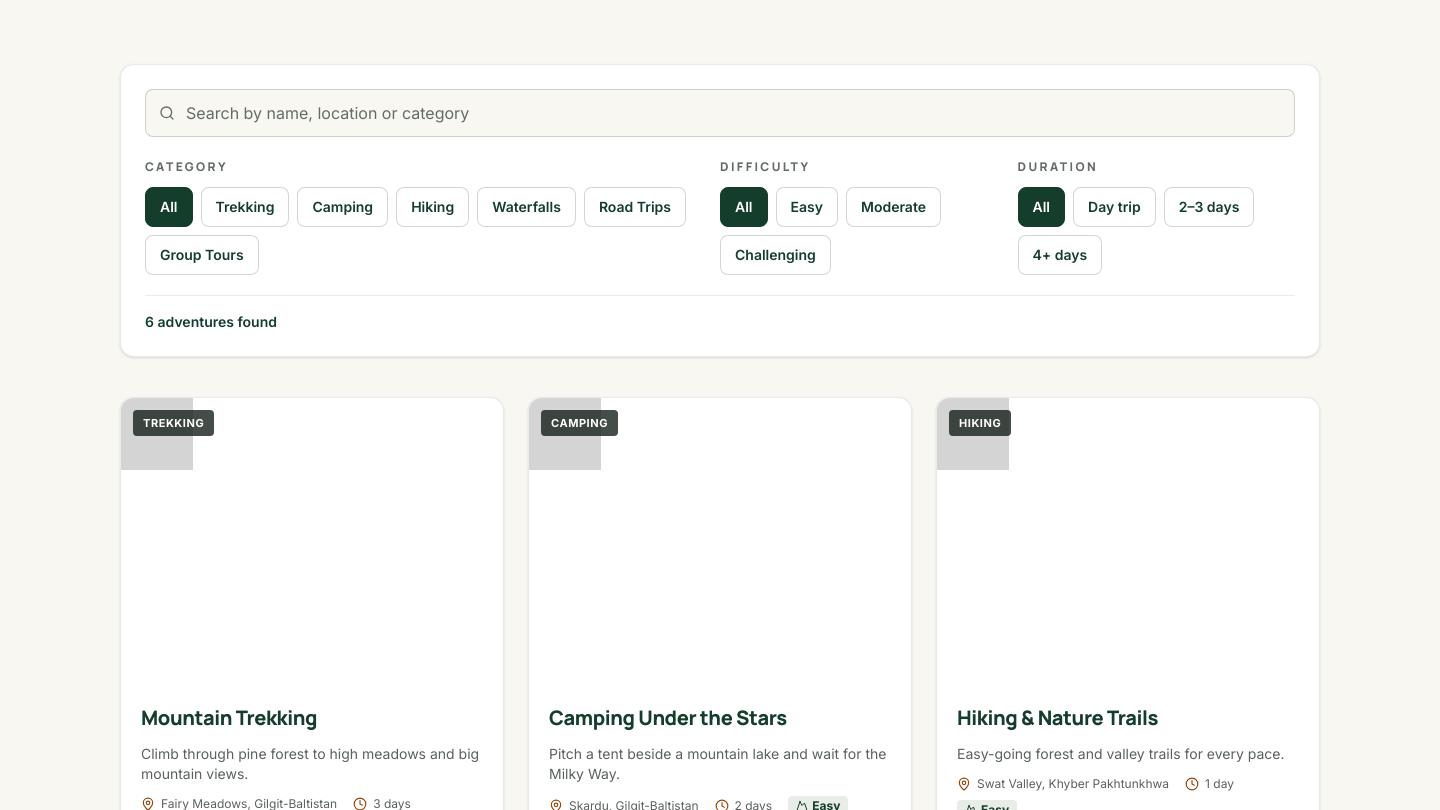
it: AdventureFilters › filters by search, difficulty, duration, category; shows empty state and clears
Type "waterfall" into the search field named "Search adventures".
click(720, 113); type("waterfall")  # box [145,89,1295,137]
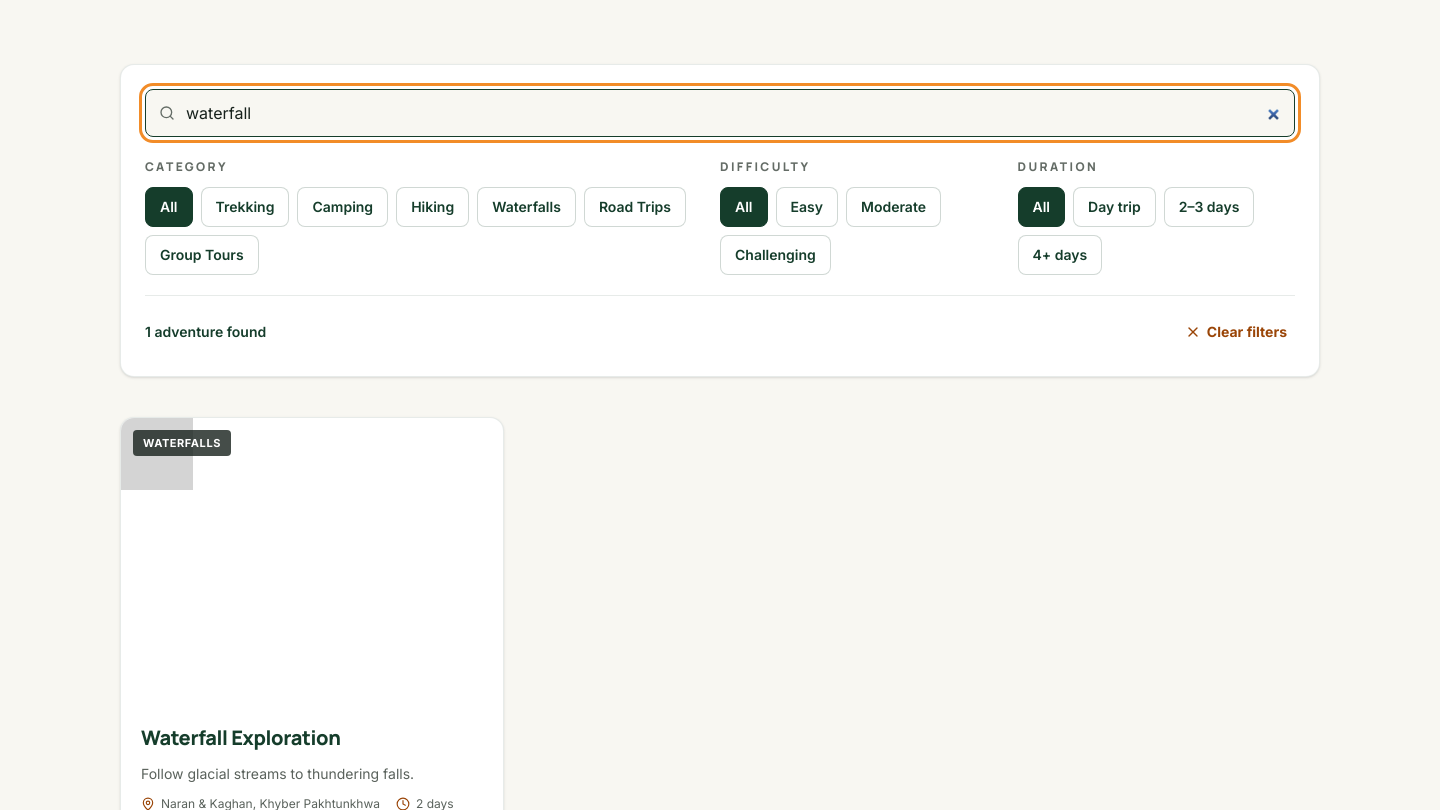
expect the message reads "1 adventure found": met, box [145,322,266,342]
Replace the text in the search field named "Search adventures" with "zzzz" at (720, 113), box [145,89,1295,137]
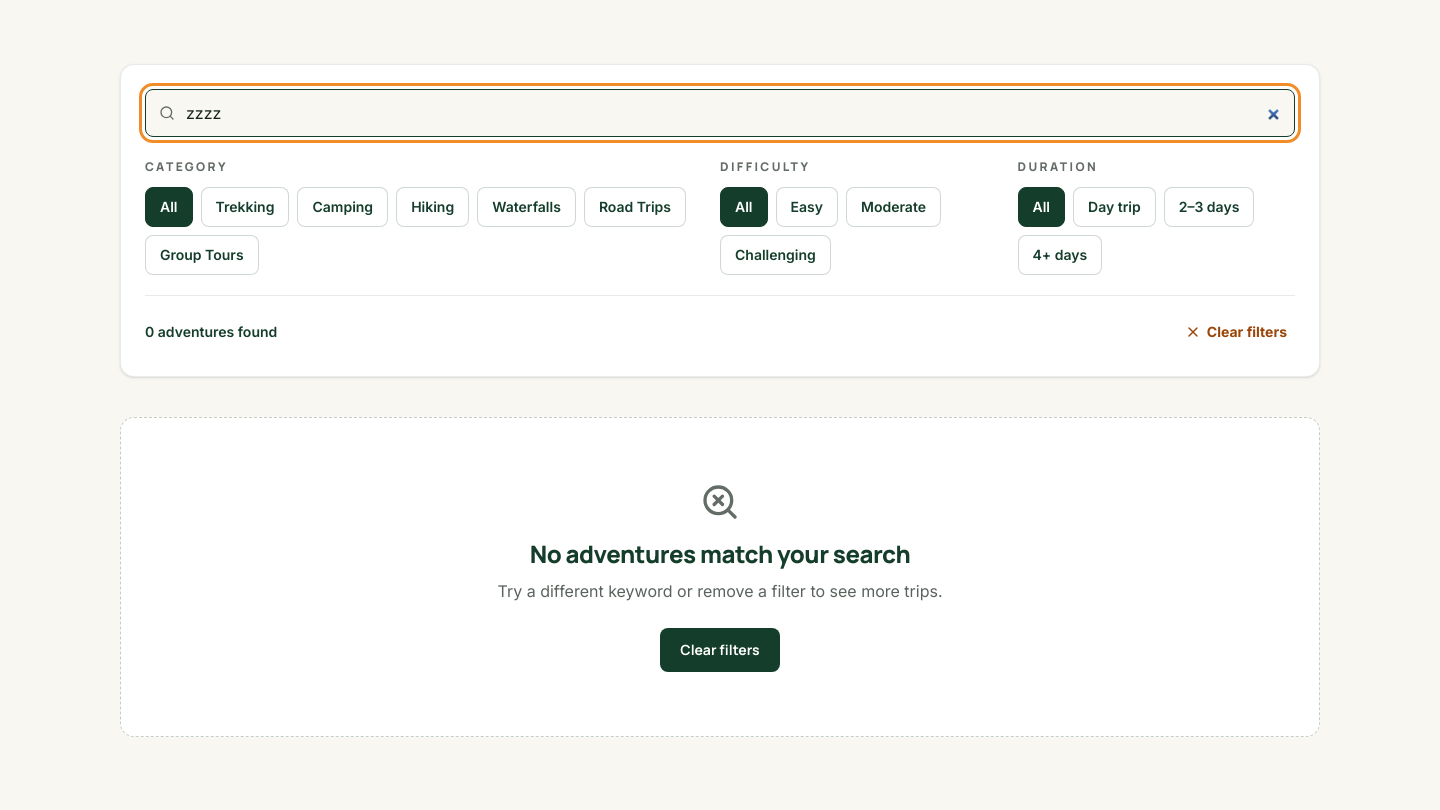
expect the heading "No adventures match your search" is shown: met, box [530,537,910,570]
Click the button "Clear filters" in the row of "found".
click(1236, 332)  # box [1177,312,1295,352]
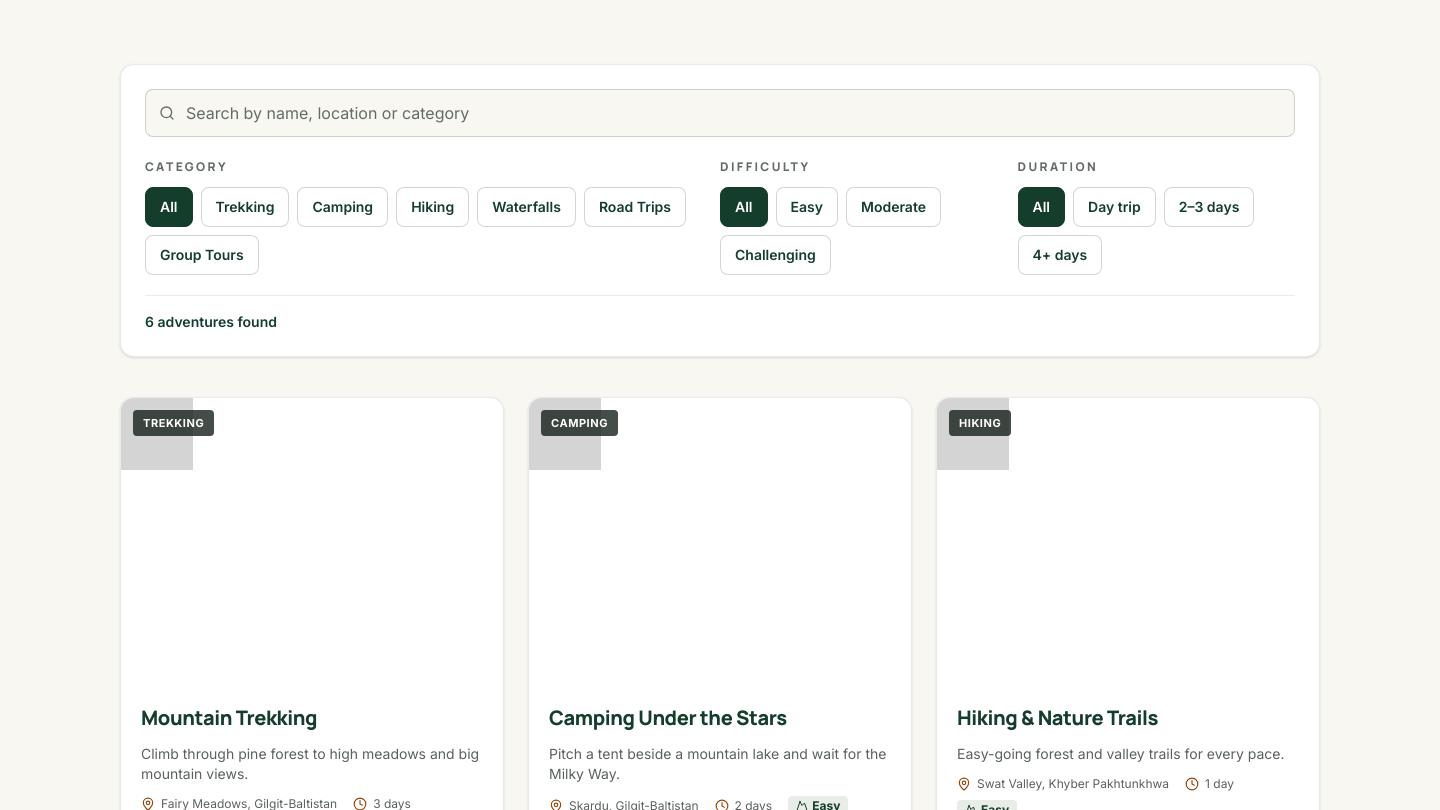
expect the message shows "6 adventures": met, box [145,312,277,332]
Click the button "Easy".
click(807, 207)  # box [776,187,838,227]
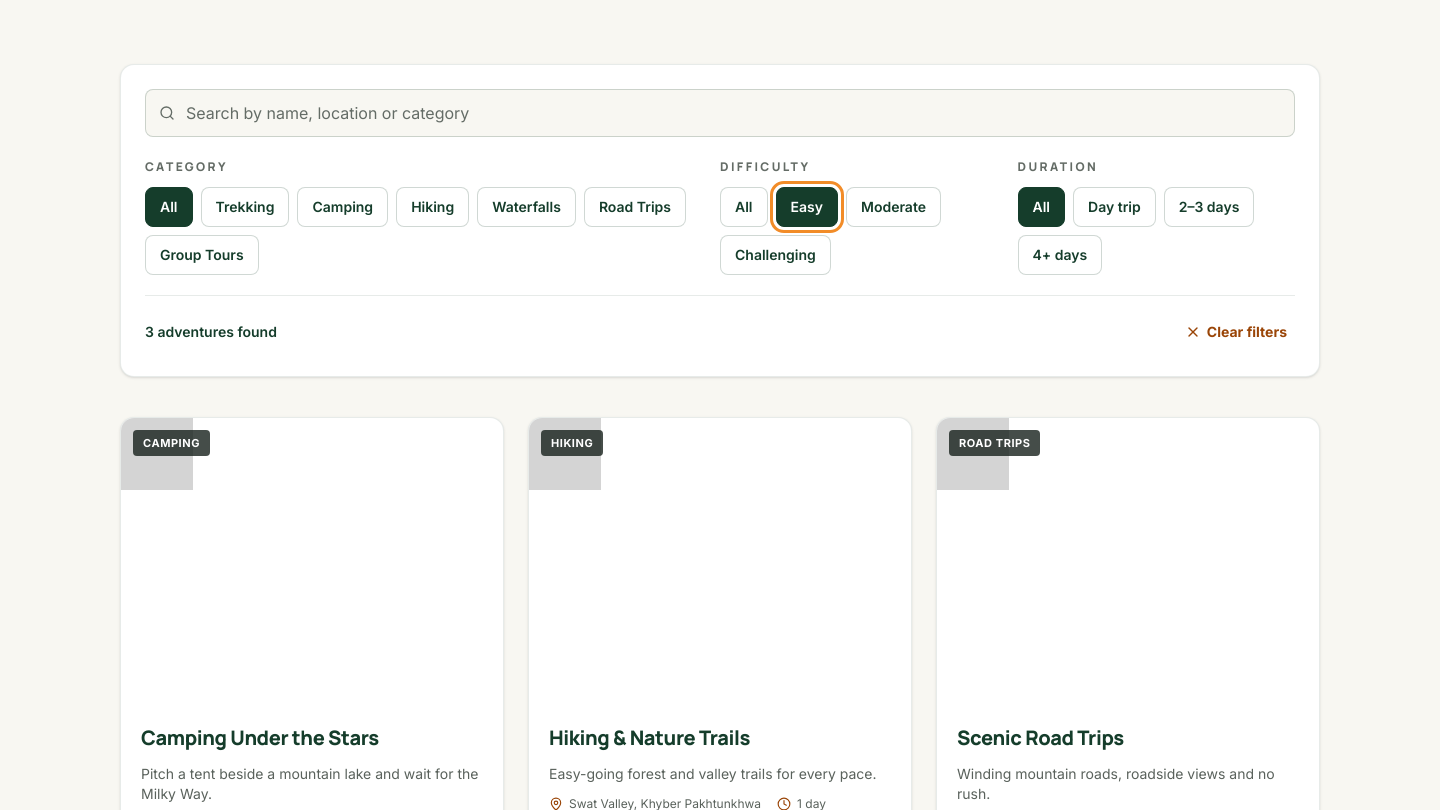
expect the message shows "3 adventures": met, box [145,322,277,342]
Click the button "Day trip".
click(1114, 207)  # box [1073,187,1156,227]
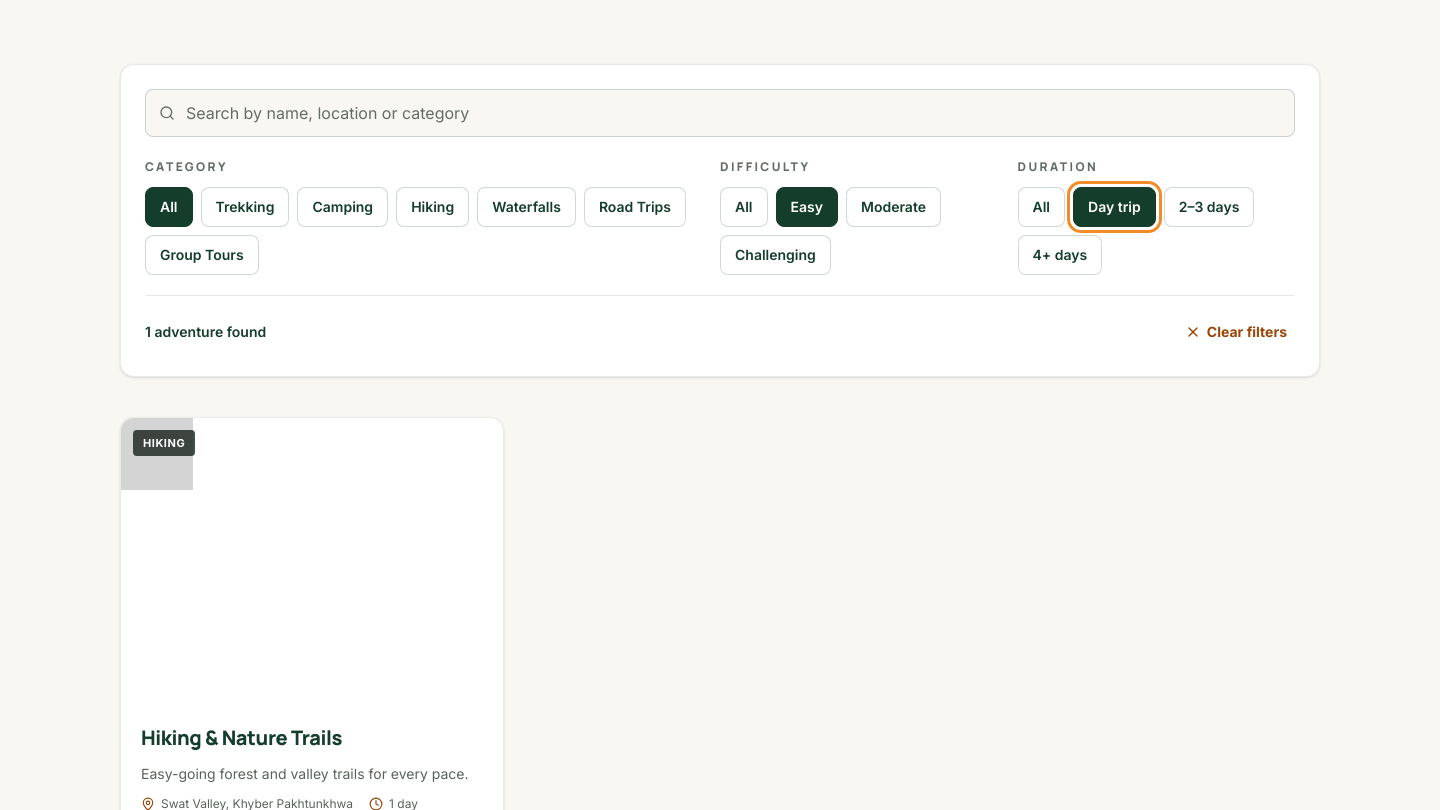
expect the message reads "1 adventure found": met, box [145,322,266,342]
Click the button "Camping".
click(343, 207)  # box [297,187,388,227]
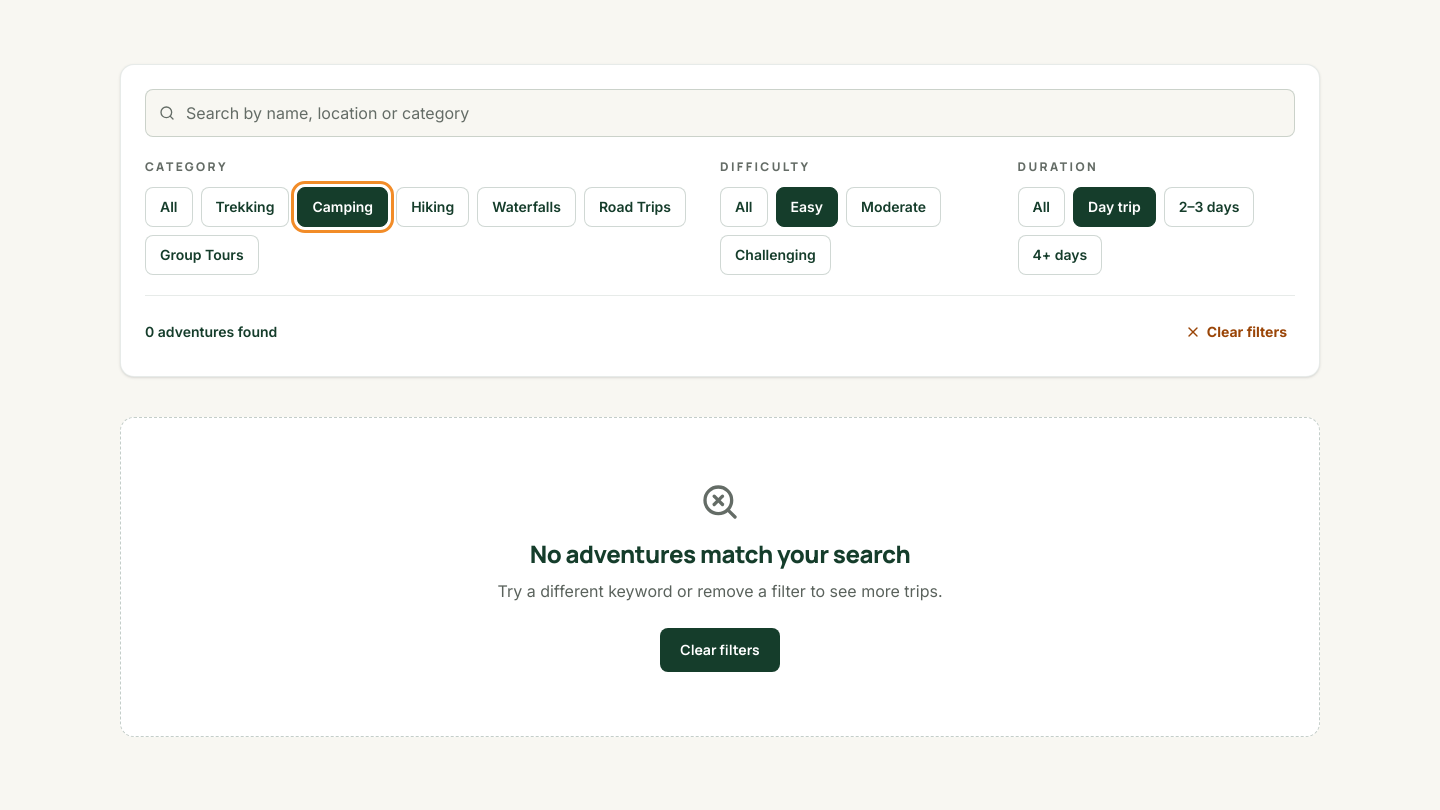
expect the heading "No adventures match your search" is shown: met, box [530,537,910,570]
